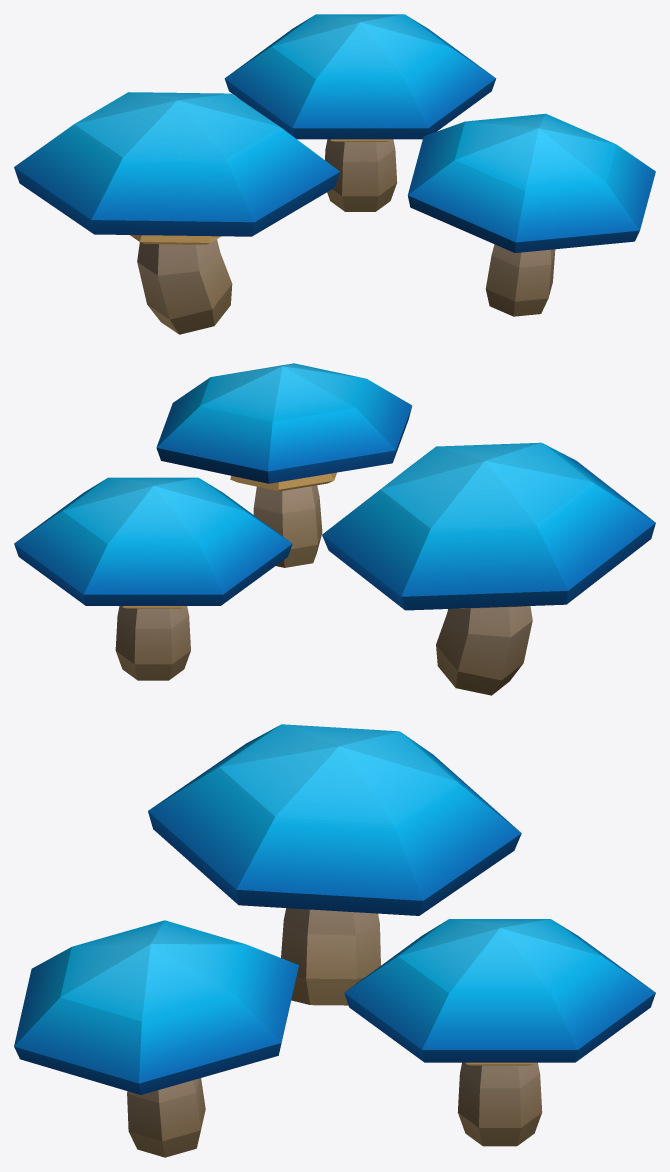
Rendered from Mushroom_Blue_Clump_02.fbx.
3 views of the same model, one above another, from view 1: azimuth 30°, elevation 25°; view 2: azimuth 150°, elevation 25°; view 3: azimuth 270°, elevation 25° (orthographic). The views are drawn at different scales.
Parts seen in each view (by area): view 1: Mushroom_Blue_Clump_02; view 2: Mushroom_Blue_Clump_02; view 3: Mushroom_Blue_Clump_02.
Boxes of the visible parts, x1=… form: Mushroom_Blue_Clump_02: x1=14, y1=14, x2=655, y2=334; Mushroom_Blue_Clump_02: x1=14, y1=363, x2=655, y2=695; Mushroom_Blue_Clump_02: x1=14, y1=724, x2=655, y2=1157.
Size of the model in its own units: 77.51 by 31.83 by 72.5.
